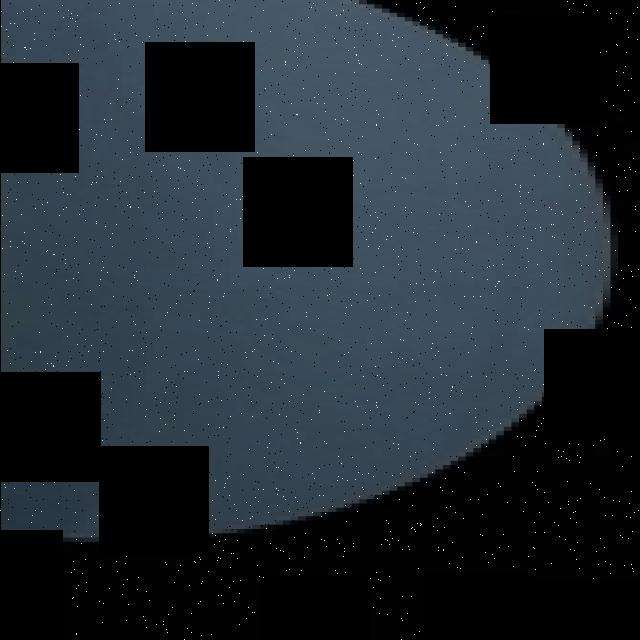Uranus: (0, 0, 617, 546)
